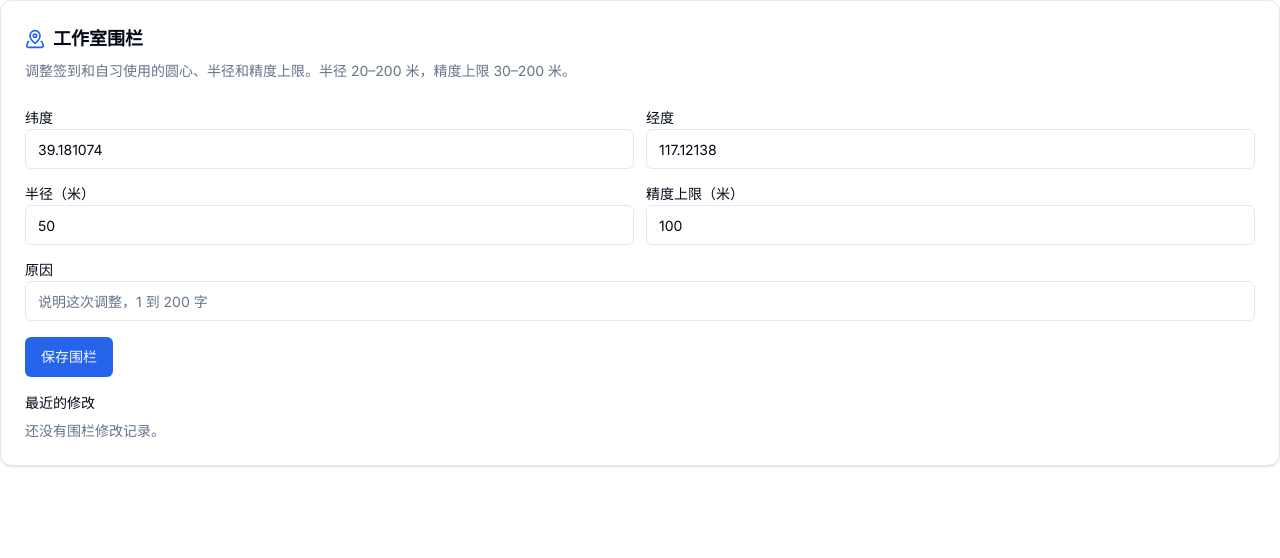
studio geofence settings › saves through update_studio_geofence and shows the new audit
Replace the text in the field labelled "半径（米）" with "80": [330, 225] box [25,205,634,245]
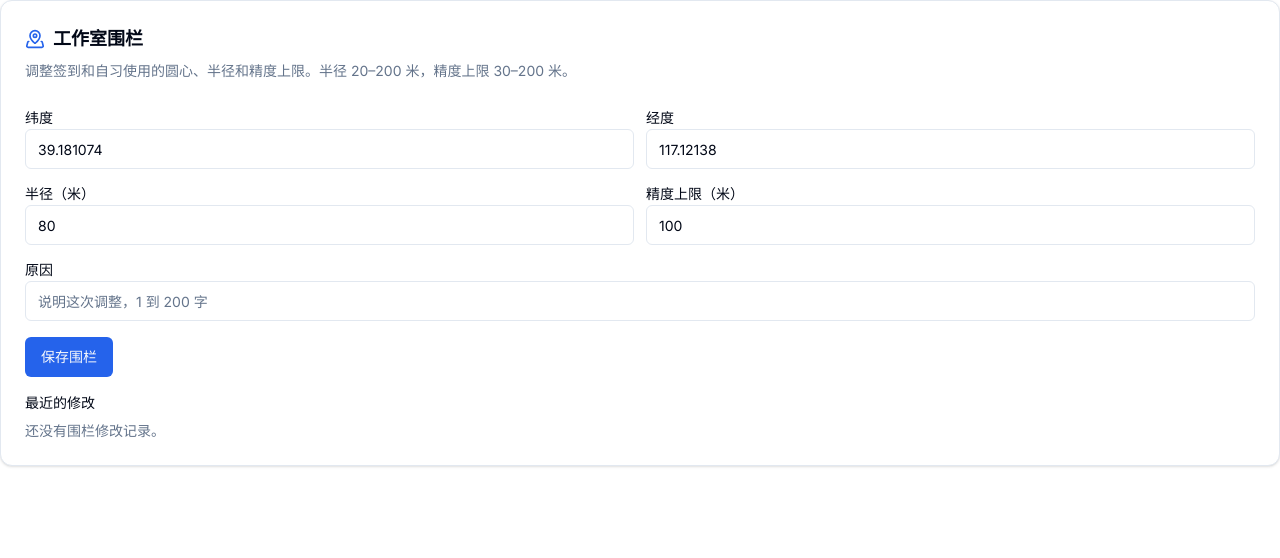
Replace the text in the field labelled "精度上限（米）" with "30": [950, 225] box [646,205,1255,245]
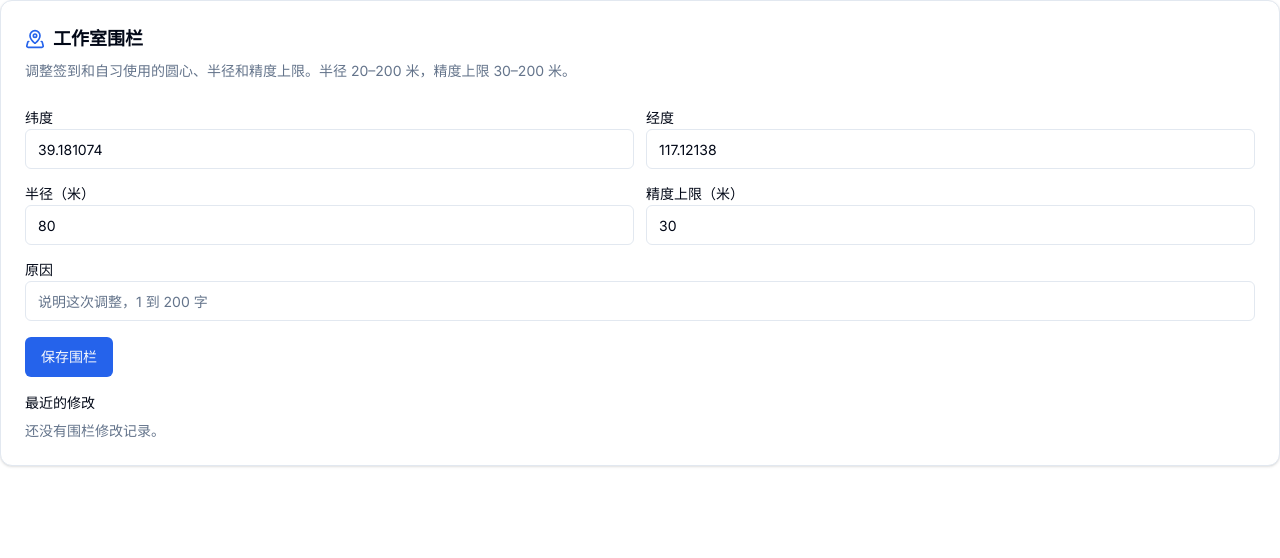
In the field labelled "原因": [640, 301] box [25,281,1255,321], type "半径改为 80"
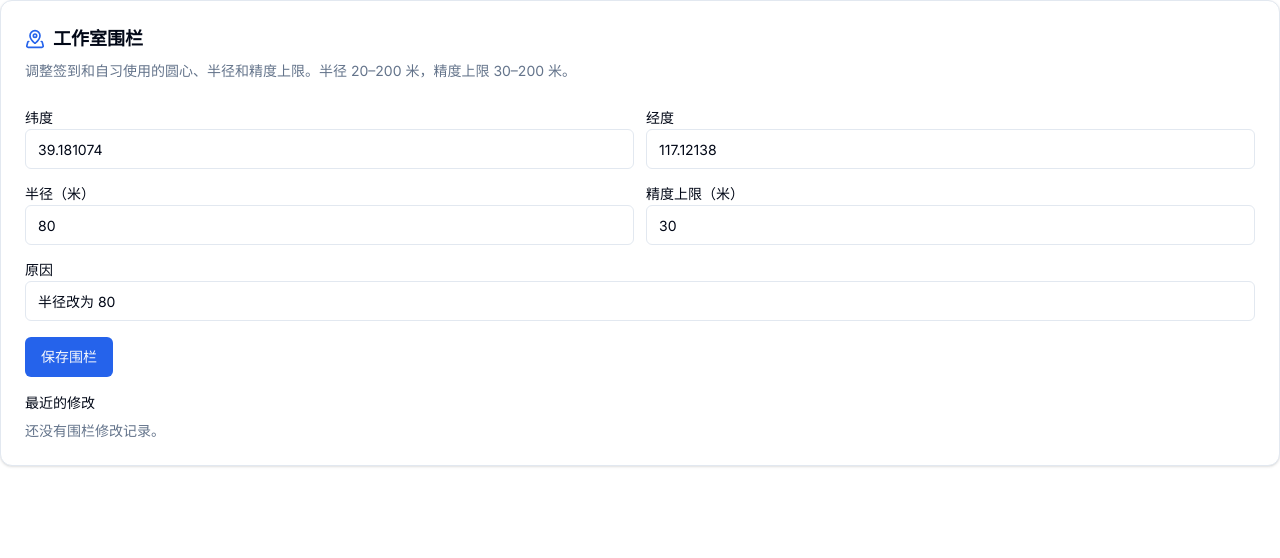
Click the button "保存围栏": [69, 357] box [25,337,113,377]
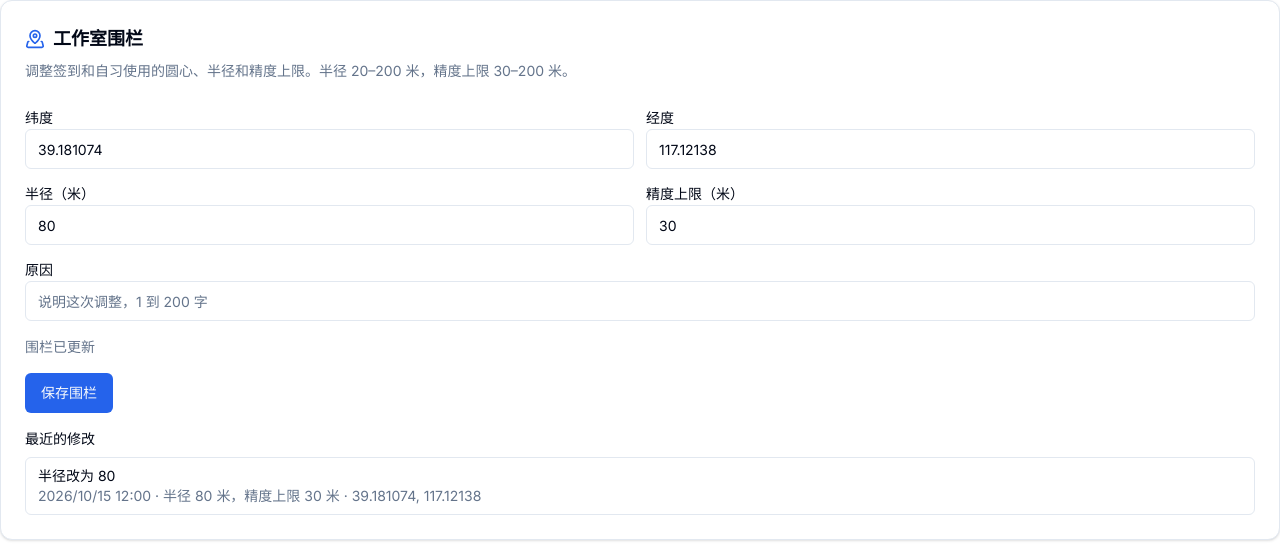
Result: the message reads "围栏已更新" at [25,338,95,355]
Result: the text "半径改为 80" is shown at [38,467,115,484]
